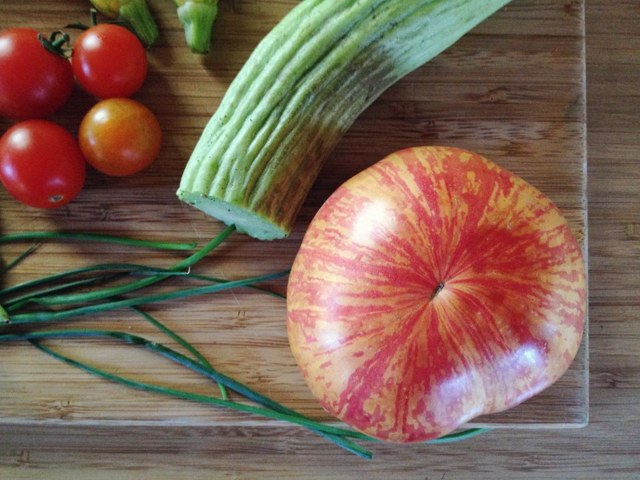tomato: (0, 118, 87, 211), (68, 8, 146, 98), (0, 24, 73, 120), (77, 96, 162, 176)
